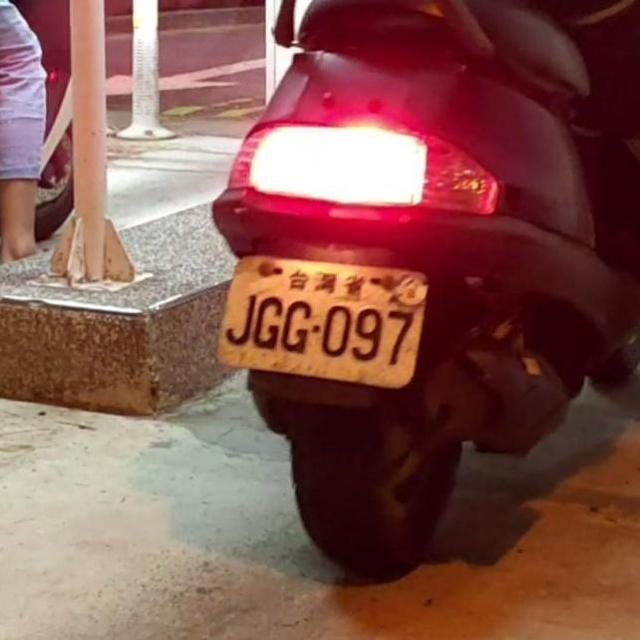W: (207, 239, 436, 397)
